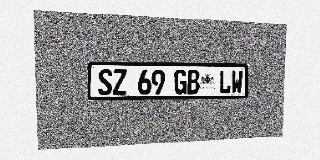6: (138, 69, 151, 95)
9: (152, 69, 165, 94)
B: (187, 70, 200, 94)
G: (174, 70, 187, 94)
L: (219, 70, 231, 94)
S: (98, 69, 112, 95)
W: (231, 70, 243, 93)
Z: (113, 69, 127, 95)
